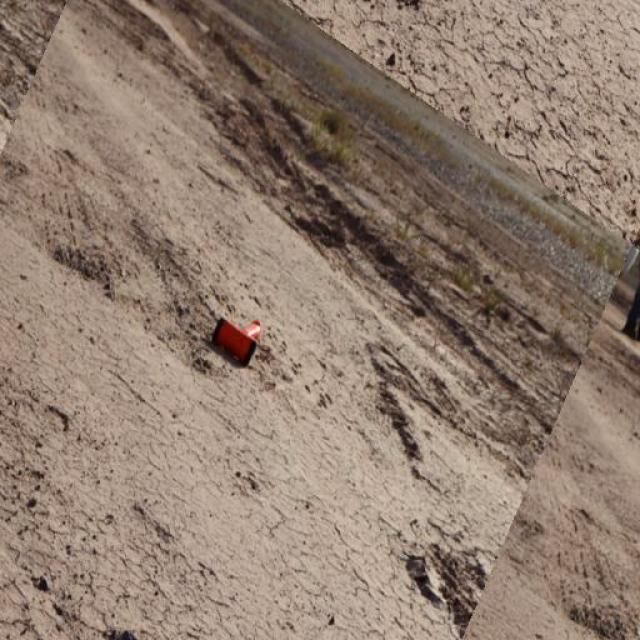mallet: (211, 315, 264, 366)
